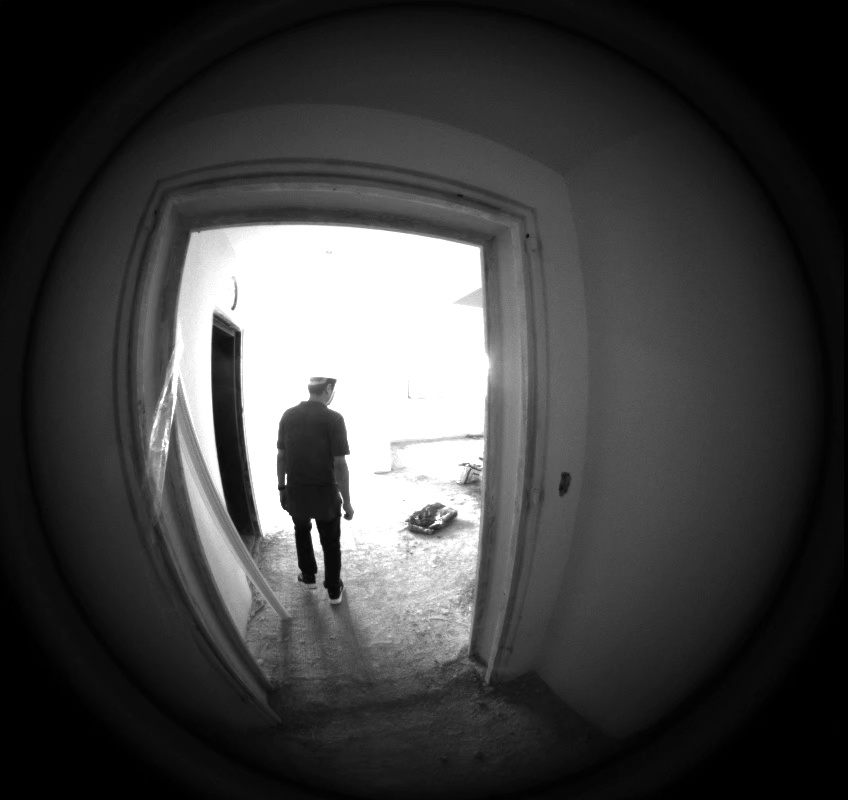Door: (46, 73, 340, 589), (49, 230, 260, 543)
Person: (76, 226, 353, 604)
Tools: (49, 32, 456, 533)
